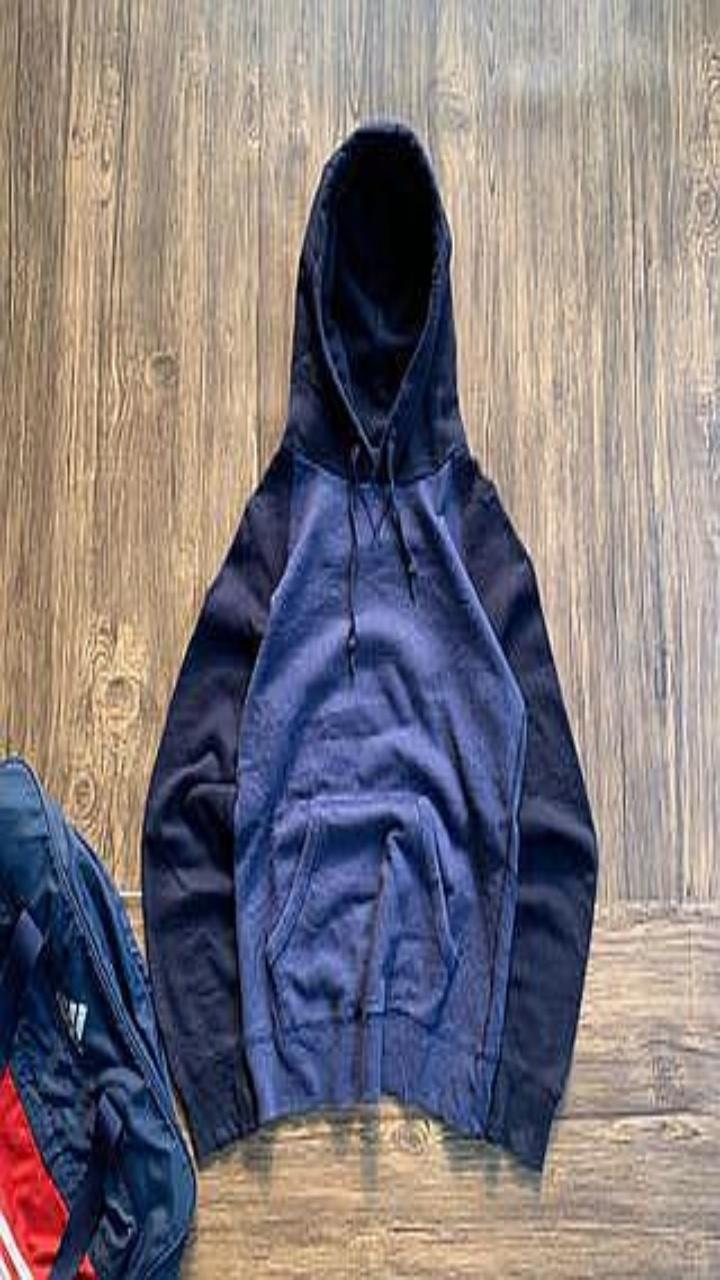Hoodie: (143, 121, 596, 1167)
